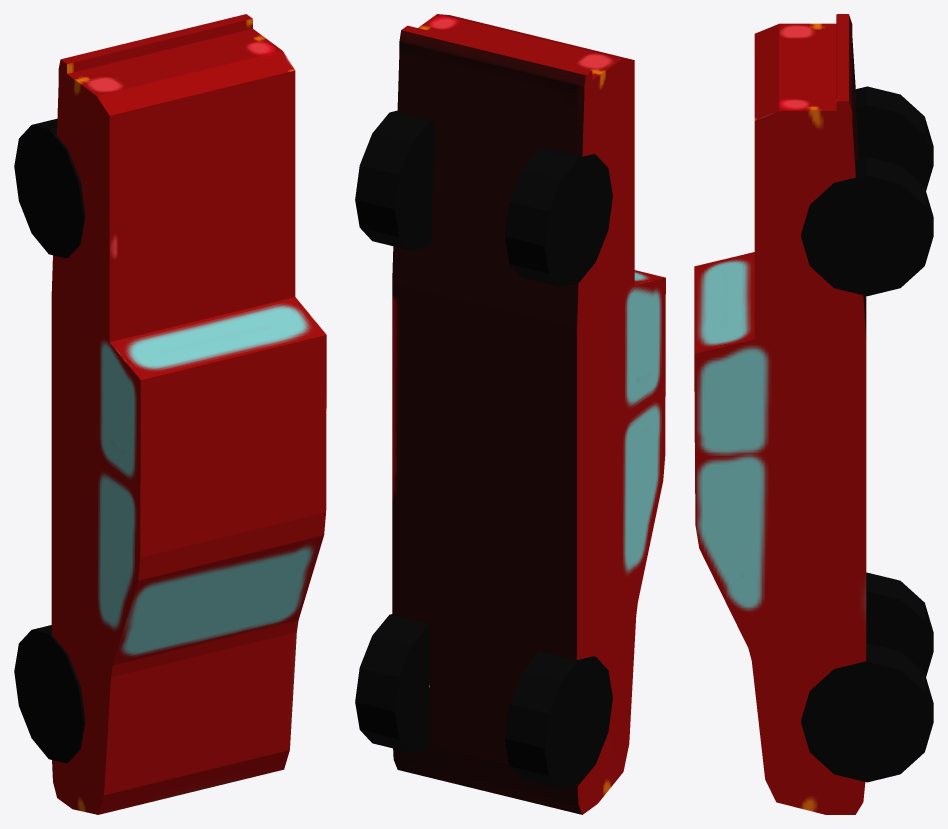
Rendered from truck.glb.
The picture shows the model from 3 angles, left to right: view 1: azimuth 30°, elevation 25°; view 2: azimuth 150°, elevation 25°; view 3: azimuth 270°, elevation 25°; orthographic projection. The views are drawn at different scales.
Parts seen in each view (by area): view 1: Cube; view 2: Cube; view 3: Cube.
Boxes of the visible parts, <box> form: Cube: <box>14,14,326,814</box>; Cube: <box>355,14,665,814</box>; Cube: <box>694,14,933,814</box>.
Size of the model in its own units: 4.3 by 16 by 4.87.
1 material, 1 textured.
